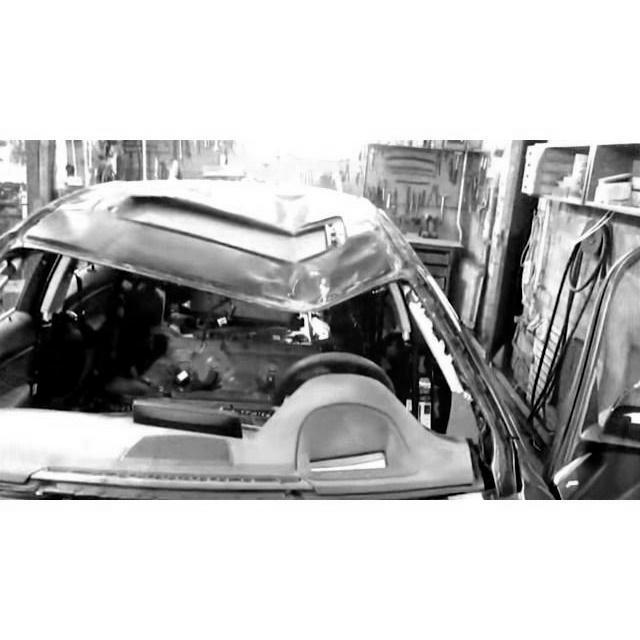roof-dent: (29, 179, 404, 318)
